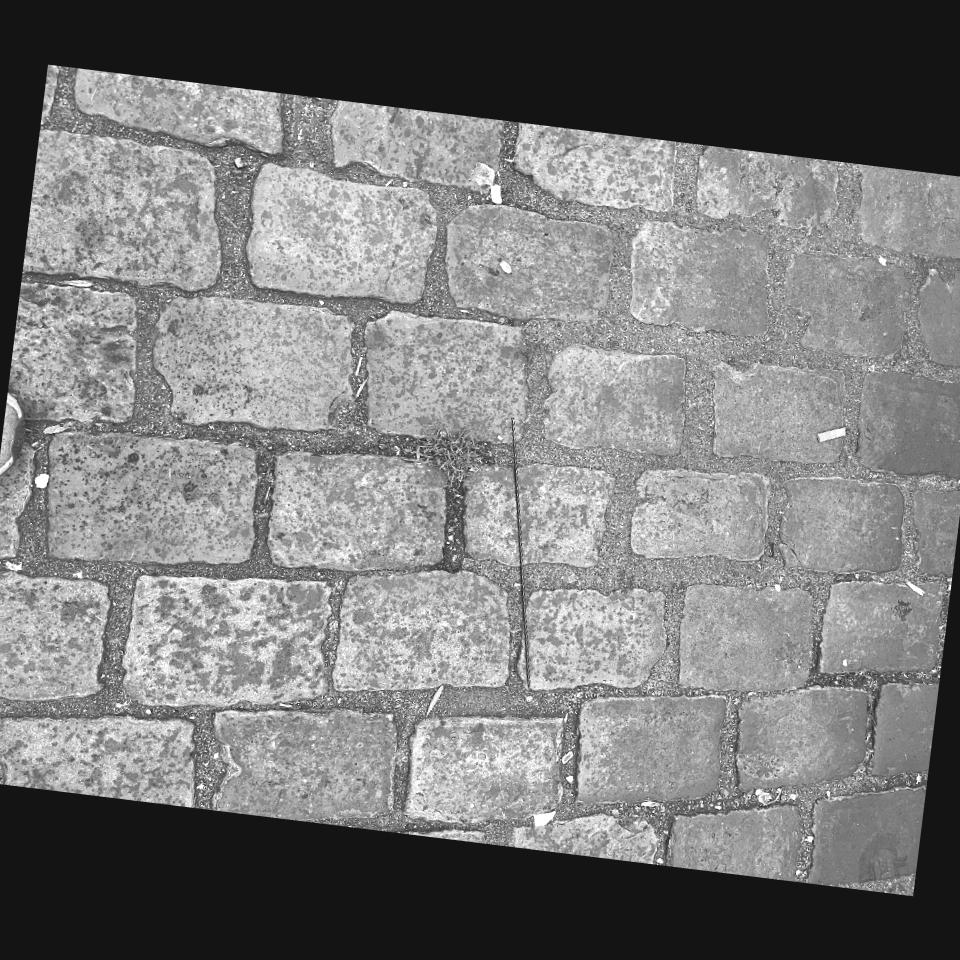weed: (521, 612, 587, 688)
